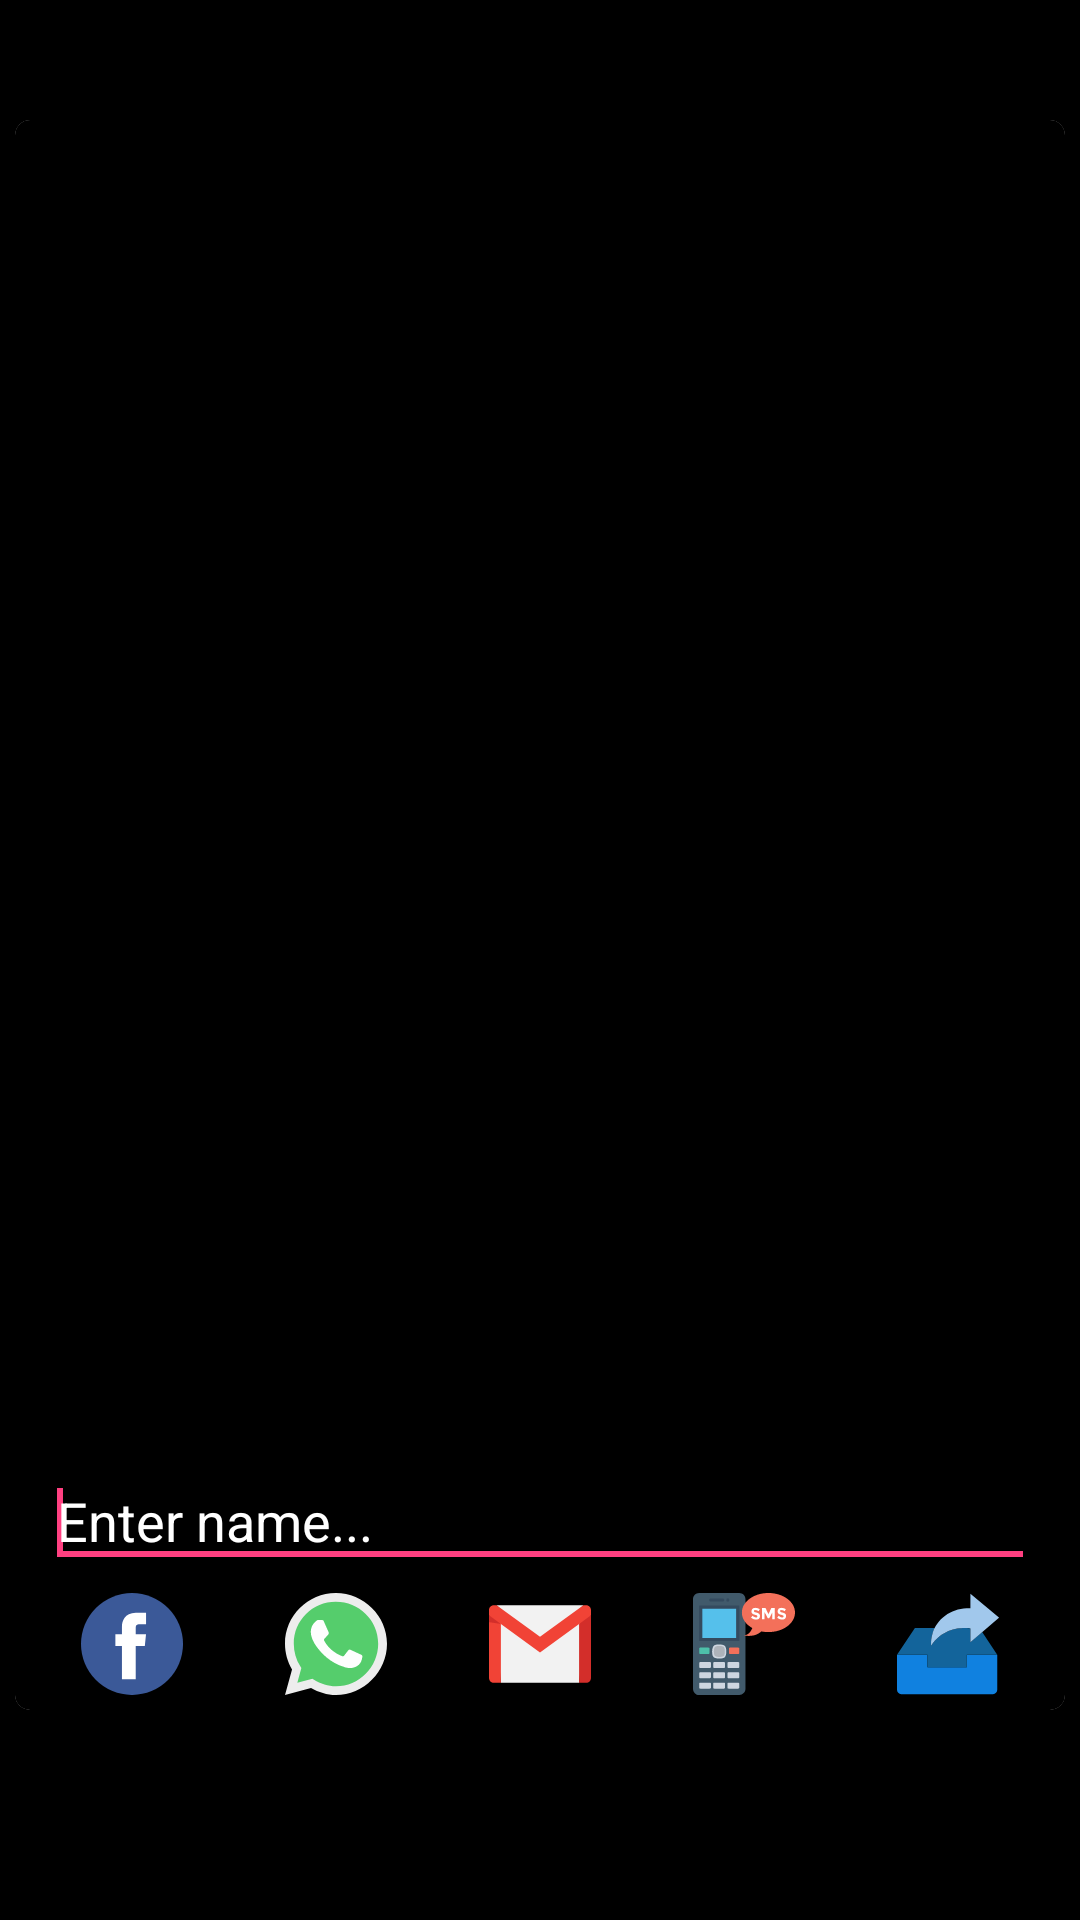

Icon bounding boxes for this 1080 x 1920 phone screenshot, format (x1, y1, x2, y2):
archive: (897, 1594, 999, 1695)
cellphone: (693, 1593, 795, 1695)
